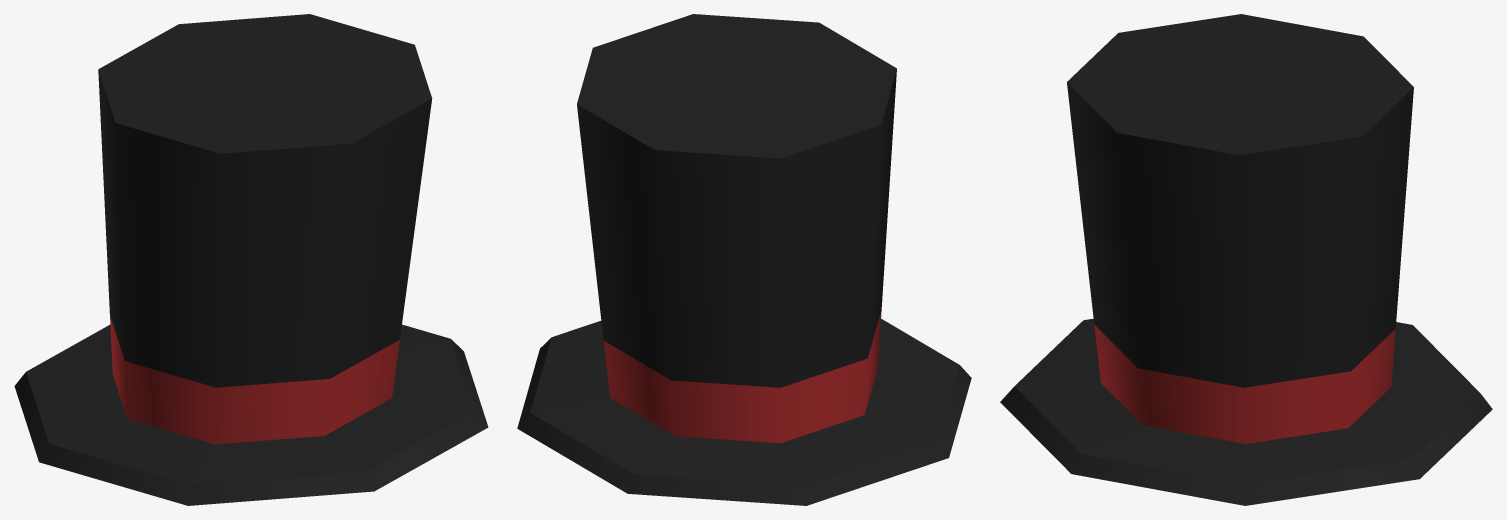
Rendered from M_Hat_01.FBX.
3 renders of one model, left to right at view 1: azimuth 30°, elevation 25°; view 2: azimuth 150°, elevation 25°; view 3: azimuth 270°, elevation 25°, orthographic. The views are drawn at different scales.
Parts seen in each view (by area): view 1: Object014; view 2: Object014; view 3: Object014.
Part boxes in pixels (bbox=[...]): Object014: bbox=[14, 14, 488, 505]; Object014: bbox=[517, 14, 971, 505]; Object014: bbox=[1000, 14, 1492, 505].
Size of the model in its own units: 68.11 by 51.1 by 67.79.
1 material, 1 textured.
